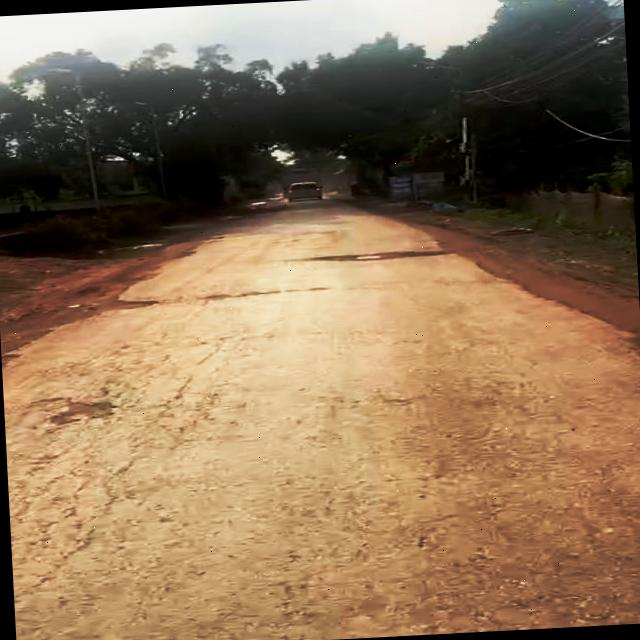pothole: (306, 245, 459, 266)
